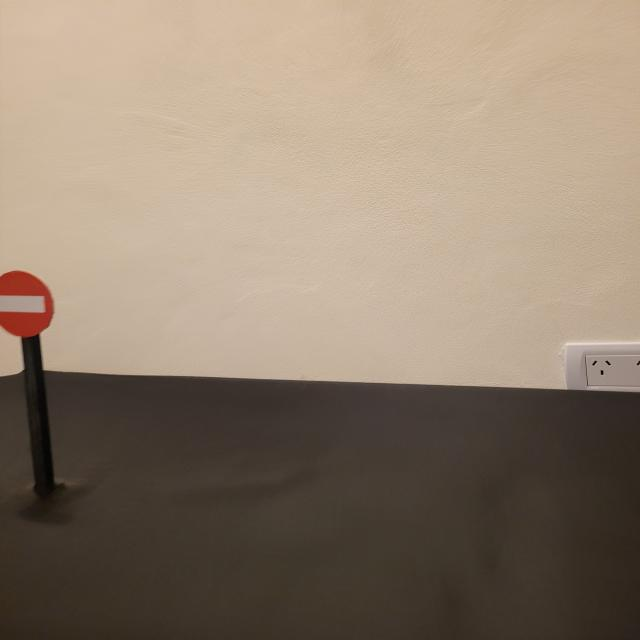no_entry: (0, 270, 58, 340)
